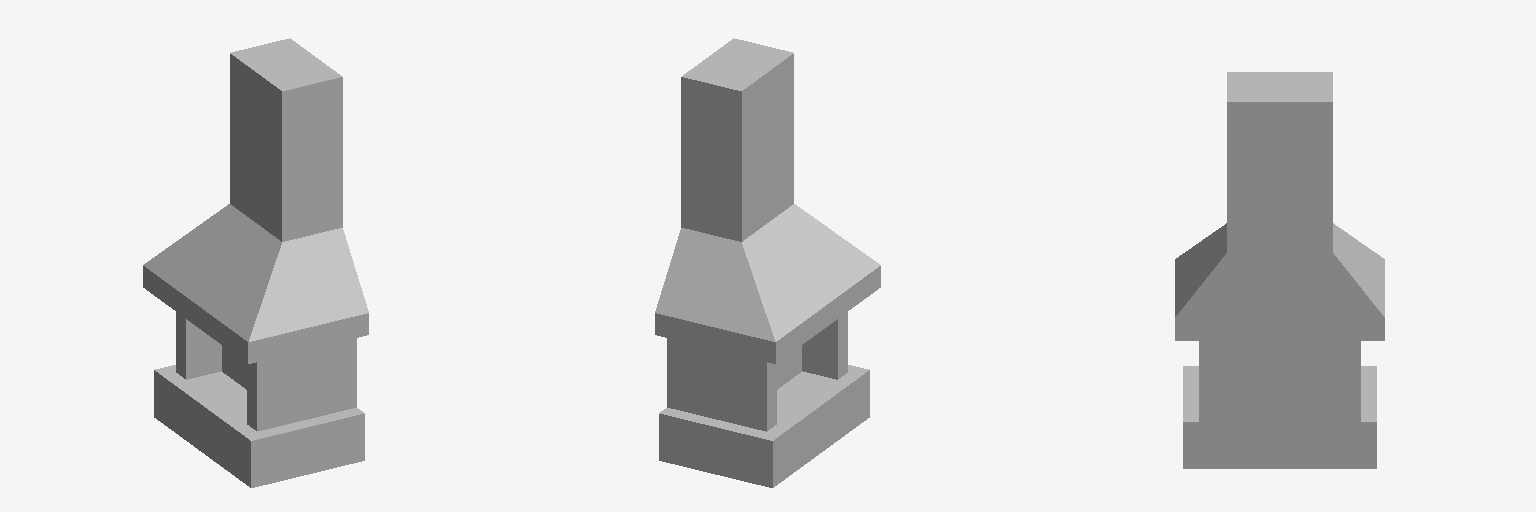
The model's file is chimneyBase.obj.
3 renders of one model, left to right at view 1: azimuth 30°, elevation 25°; view 2: azimuth 150°, elevation 25°; view 3: azimuth 270°, elevation 25°, orthographic.
Parts seen in each view (by area): view 1: chimneyBase; view 2: chimneyBase; view 3: chimneyBase.
Boxes of the visible parts, x1,y1,x2,y2 form: chimneyBase: [143, 38, 368, 487]; chimneyBase: [655, 38, 880, 487]; chimneyBase: [1175, 72, 1384, 468].
Bounding box in the file's own units: 0.3438 × 1 × 0.52.